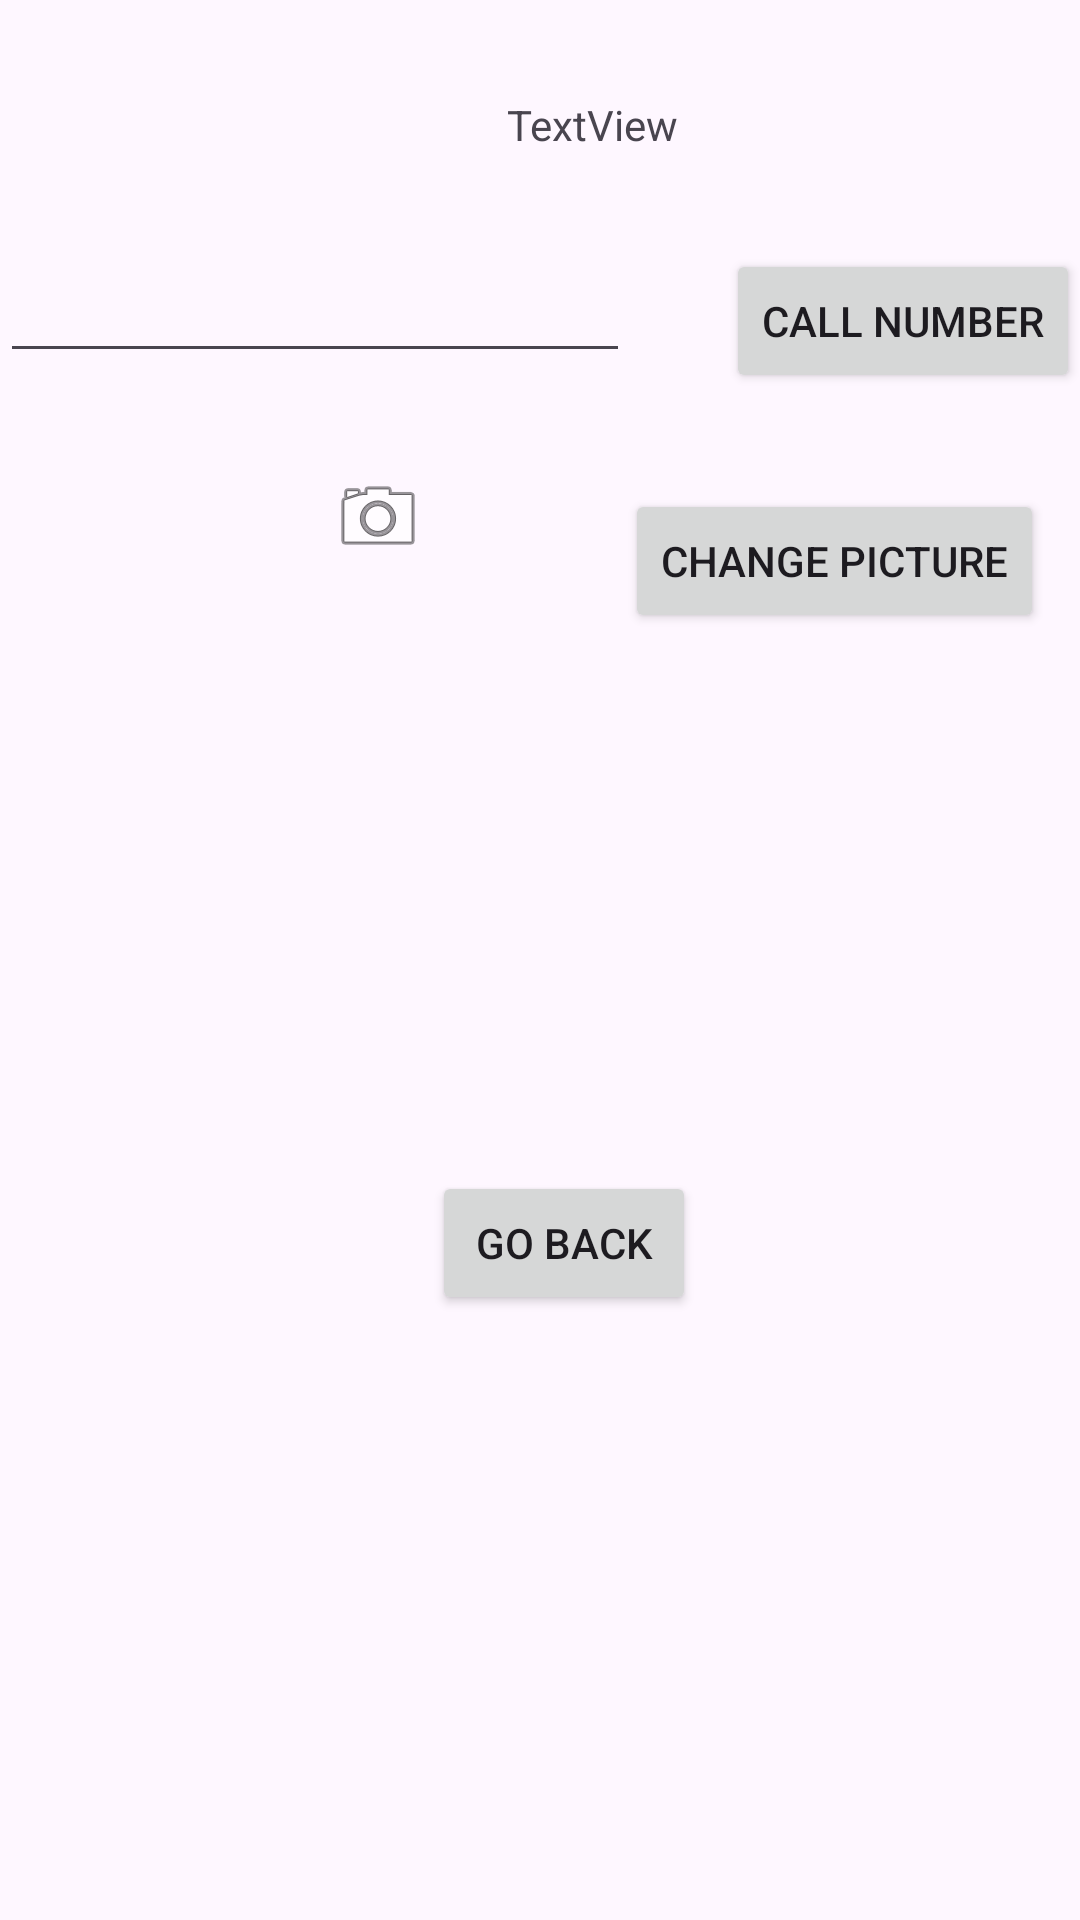

Locate icon controls on the screen. Image size 1080w x 1920h, boxes as (x1,y1,x2,y2).
camera: (341,486,415,545)
